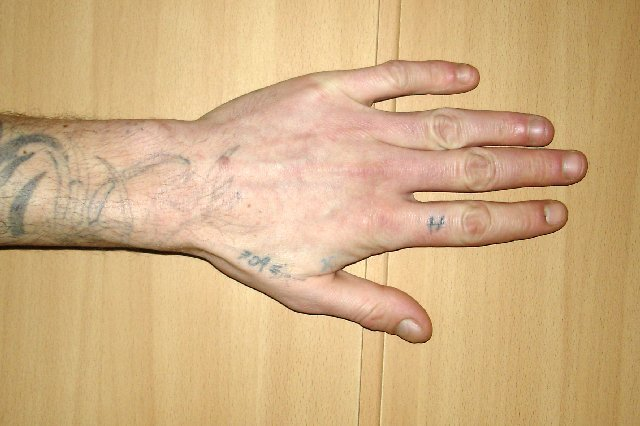tatu9_krest: (421, 212, 454, 234)
